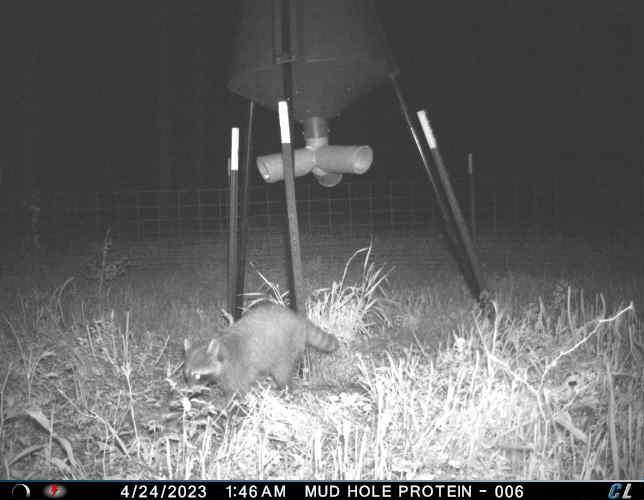Raccoon: (181, 299, 341, 410)
